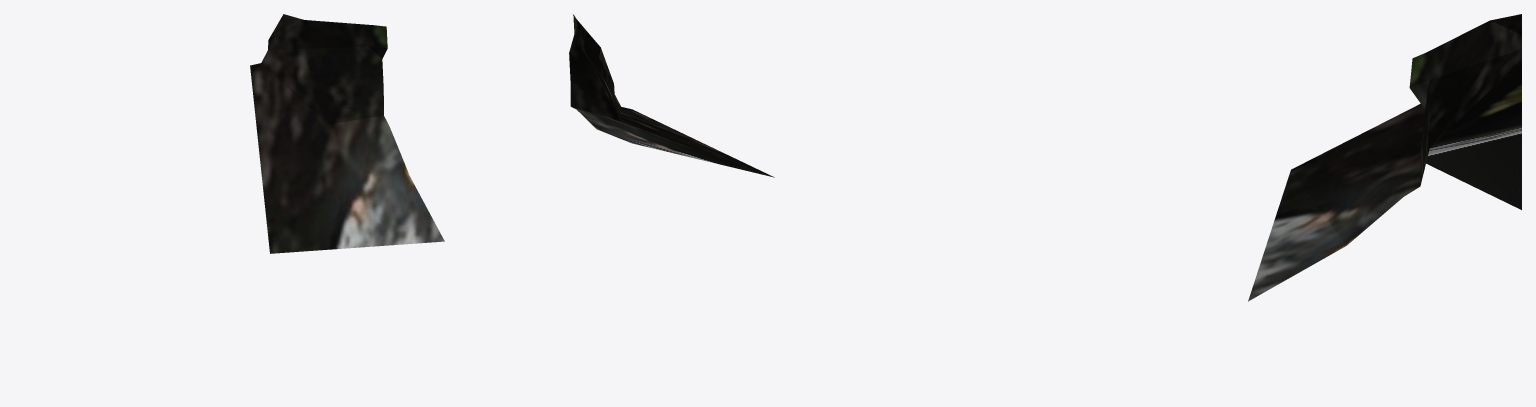
The picture shows the model from 3 angles, left to right: view 1: azimuth 30°, elevation 25°; view 2: azimuth 150°, elevation 25°; view 3: azimuth 270°, elevation 25°; orthographic projection. The views are drawn at different scales.
Size of the model in its own units: 1.67 by 1.3 by 1.67.
2 materials, 2 textured.
